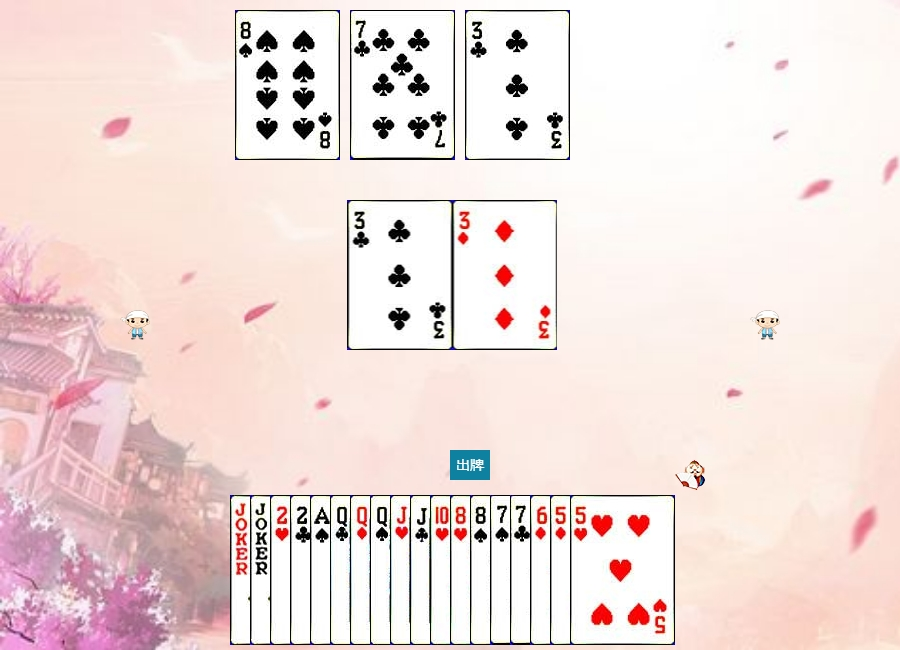10~3: (430, 495, 535, 645)
11~2: (410, 495, 515, 645)
11~3: (390, 495, 495, 645)
12~1: (350, 495, 455, 645)
12~2: (330, 495, 435, 645)
12~4: (370, 495, 475, 645)
14~4: (310, 495, 415, 645)
15~2: (290, 495, 395, 645)
15~3: (270, 495, 375, 645)
17~3: (250, 495, 355, 645)
18~4: (230, 495, 335, 645)
3~1: (453, 200, 558, 350)
3~2: (465, 10, 570, 160), (348, 200, 453, 350)
5~1: (550, 495, 655, 645)
5~3: (570, 495, 675, 645)
6~1: (530, 495, 635, 645)
7~2: (350, 10, 455, 160), (510, 495, 615, 645)
7~4: (490, 495, 595, 645)
8~3: (450, 495, 555, 645)
8~4: (235, 10, 340, 160), (470, 495, 575, 645)
